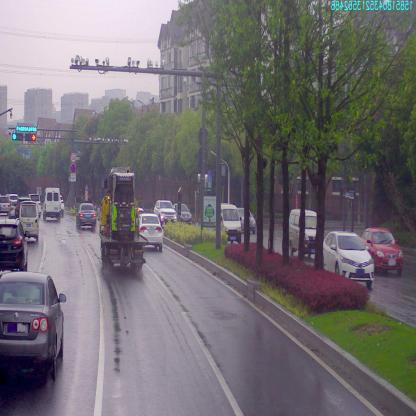traffic-light: (16, 124, 37, 134), (24, 135, 36, 143), (13, 133, 23, 139)
